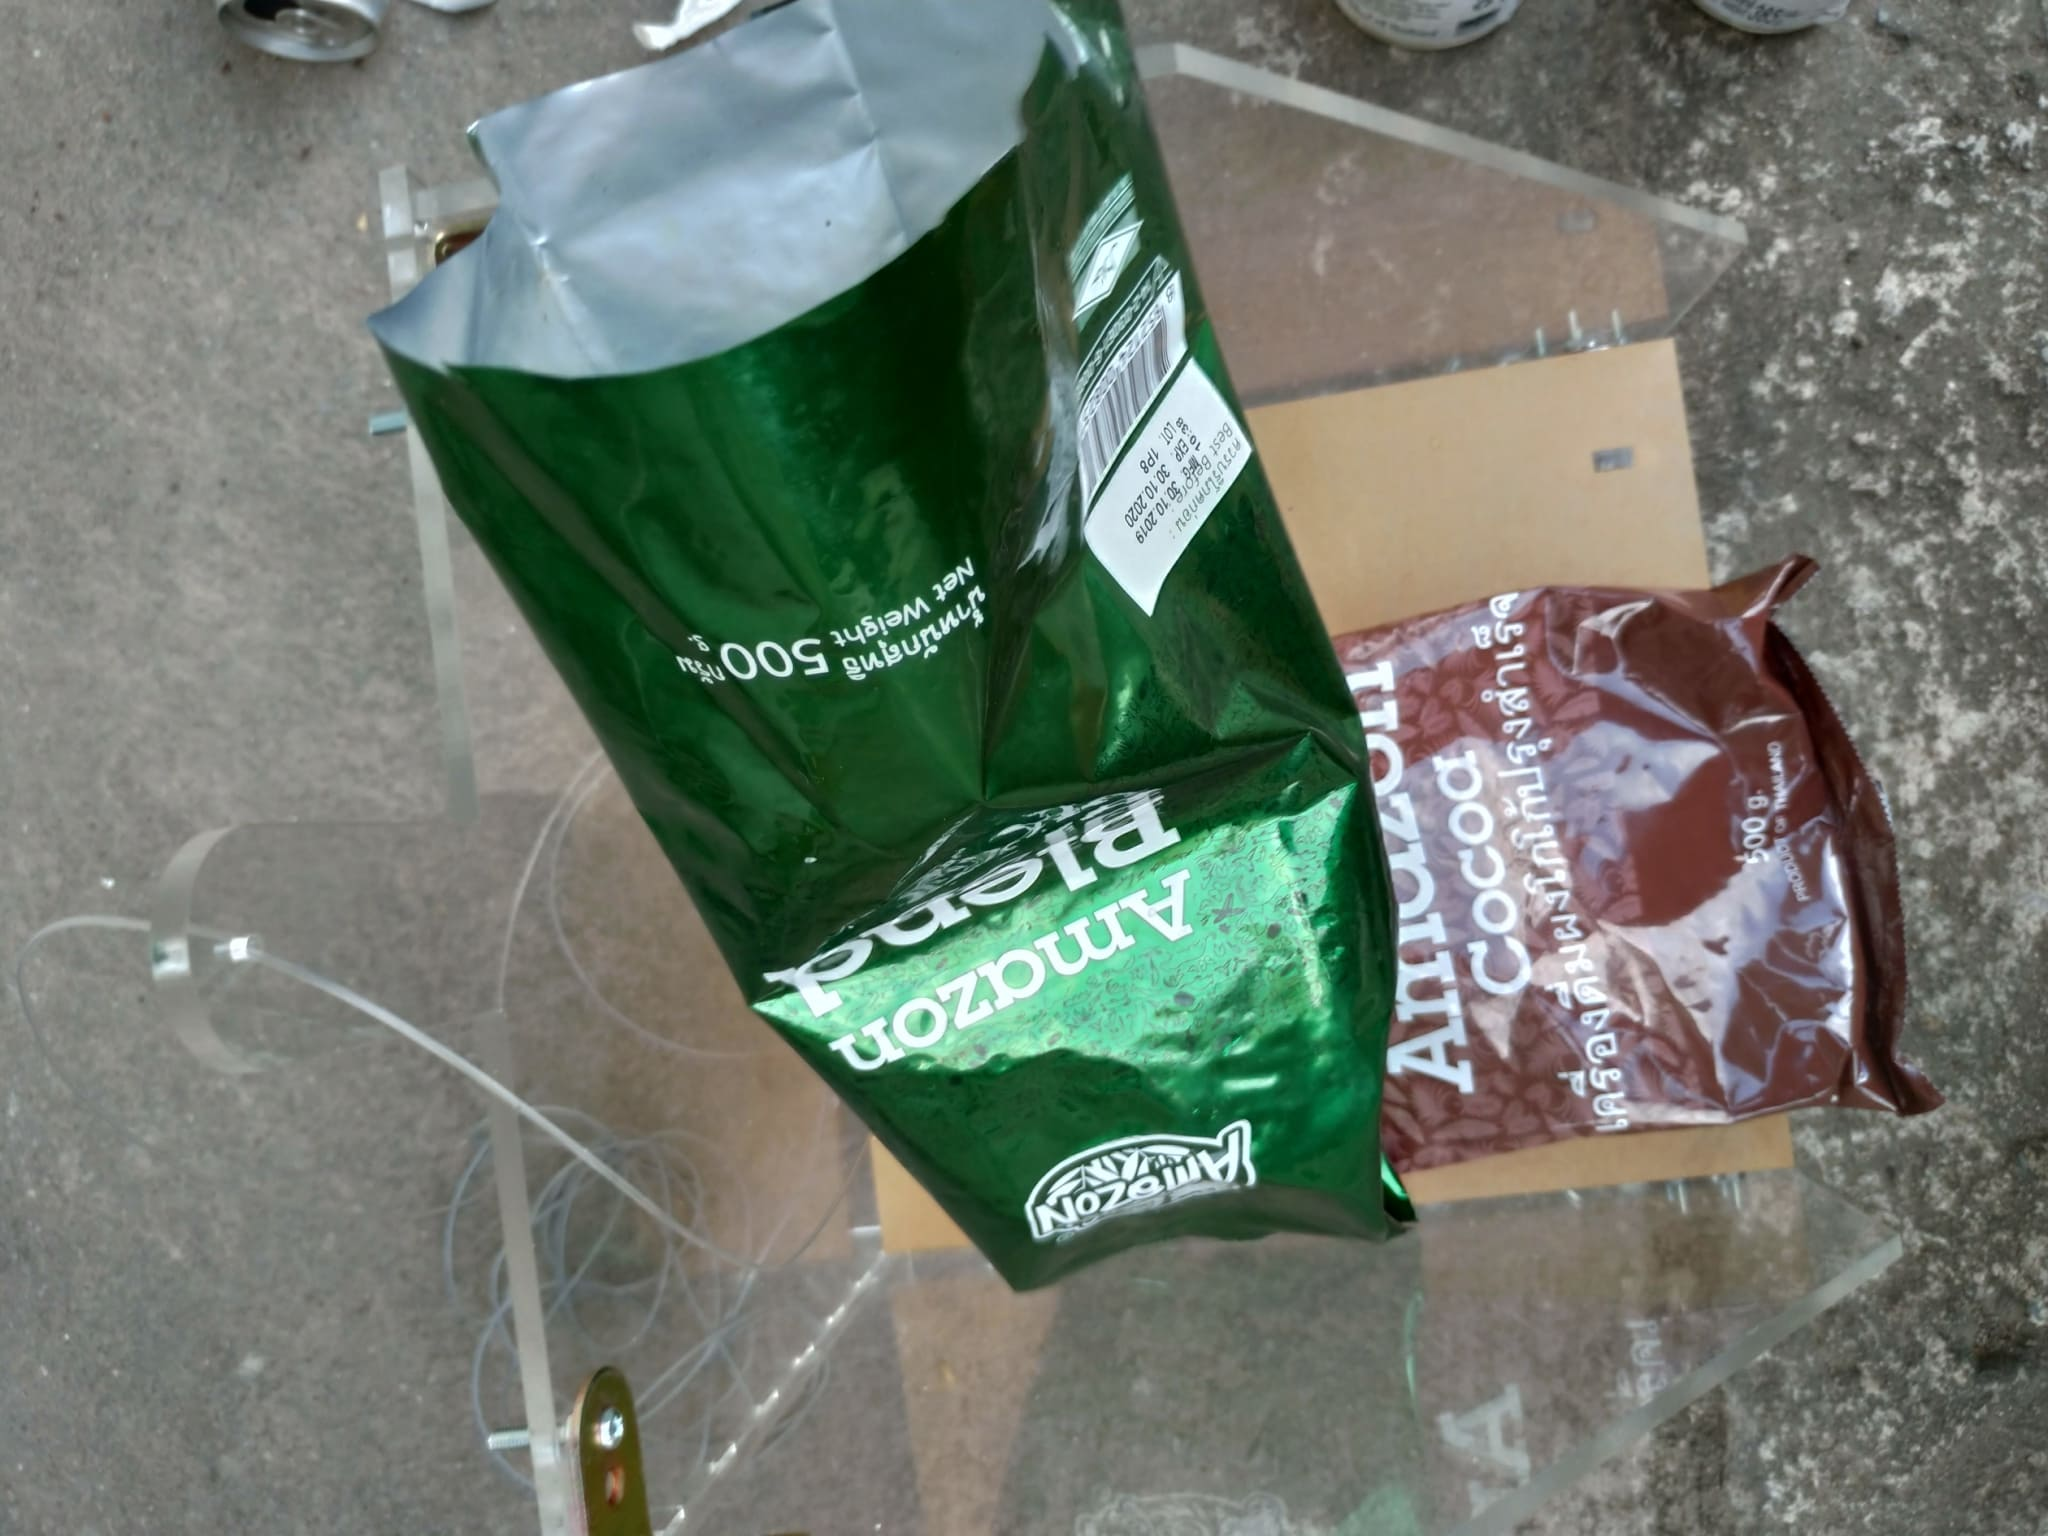Others: (374, 19, 1426, 1265), (1332, 547, 1954, 1165)
